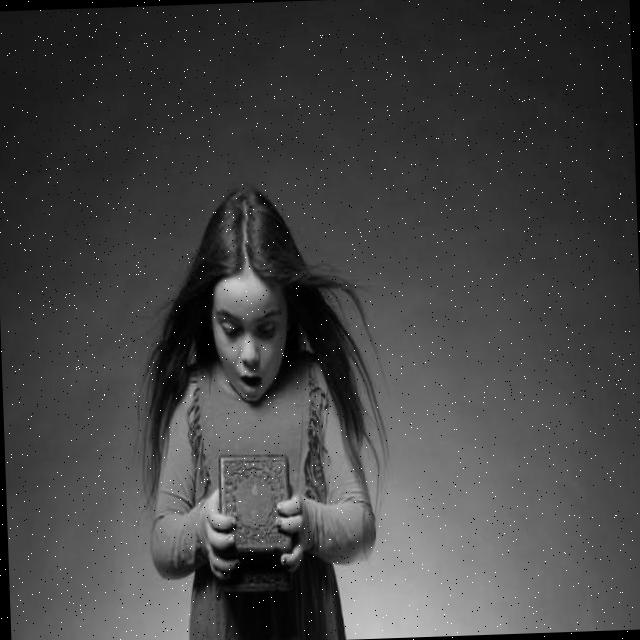Surprised: (210, 275, 288, 402)
